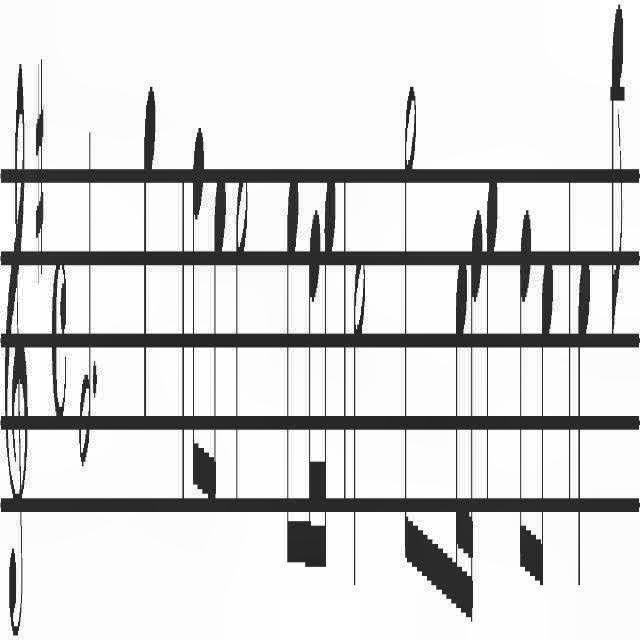Bass-clef: (3, 50, 29, 640)
Diez: (36, 61, 44, 296)
Eighth-note: (283, 149, 301, 579), (208, 146, 228, 506), (534, 241, 554, 595), (190, 113, 207, 503), (609, 0, 625, 348), (517, 198, 531, 566)
Half-note: (402, 66, 418, 582), (78, 115, 94, 481), (352, 238, 366, 606), (236, 162, 247, 526)
Quarter-note: (485, 162, 501, 512), (142, 76, 156, 442), (577, 256, 591, 610)
Sixteenth-note: (322, 158, 338, 618), (468, 204, 482, 628), (307, 204, 321, 594), (453, 248, 467, 612)
